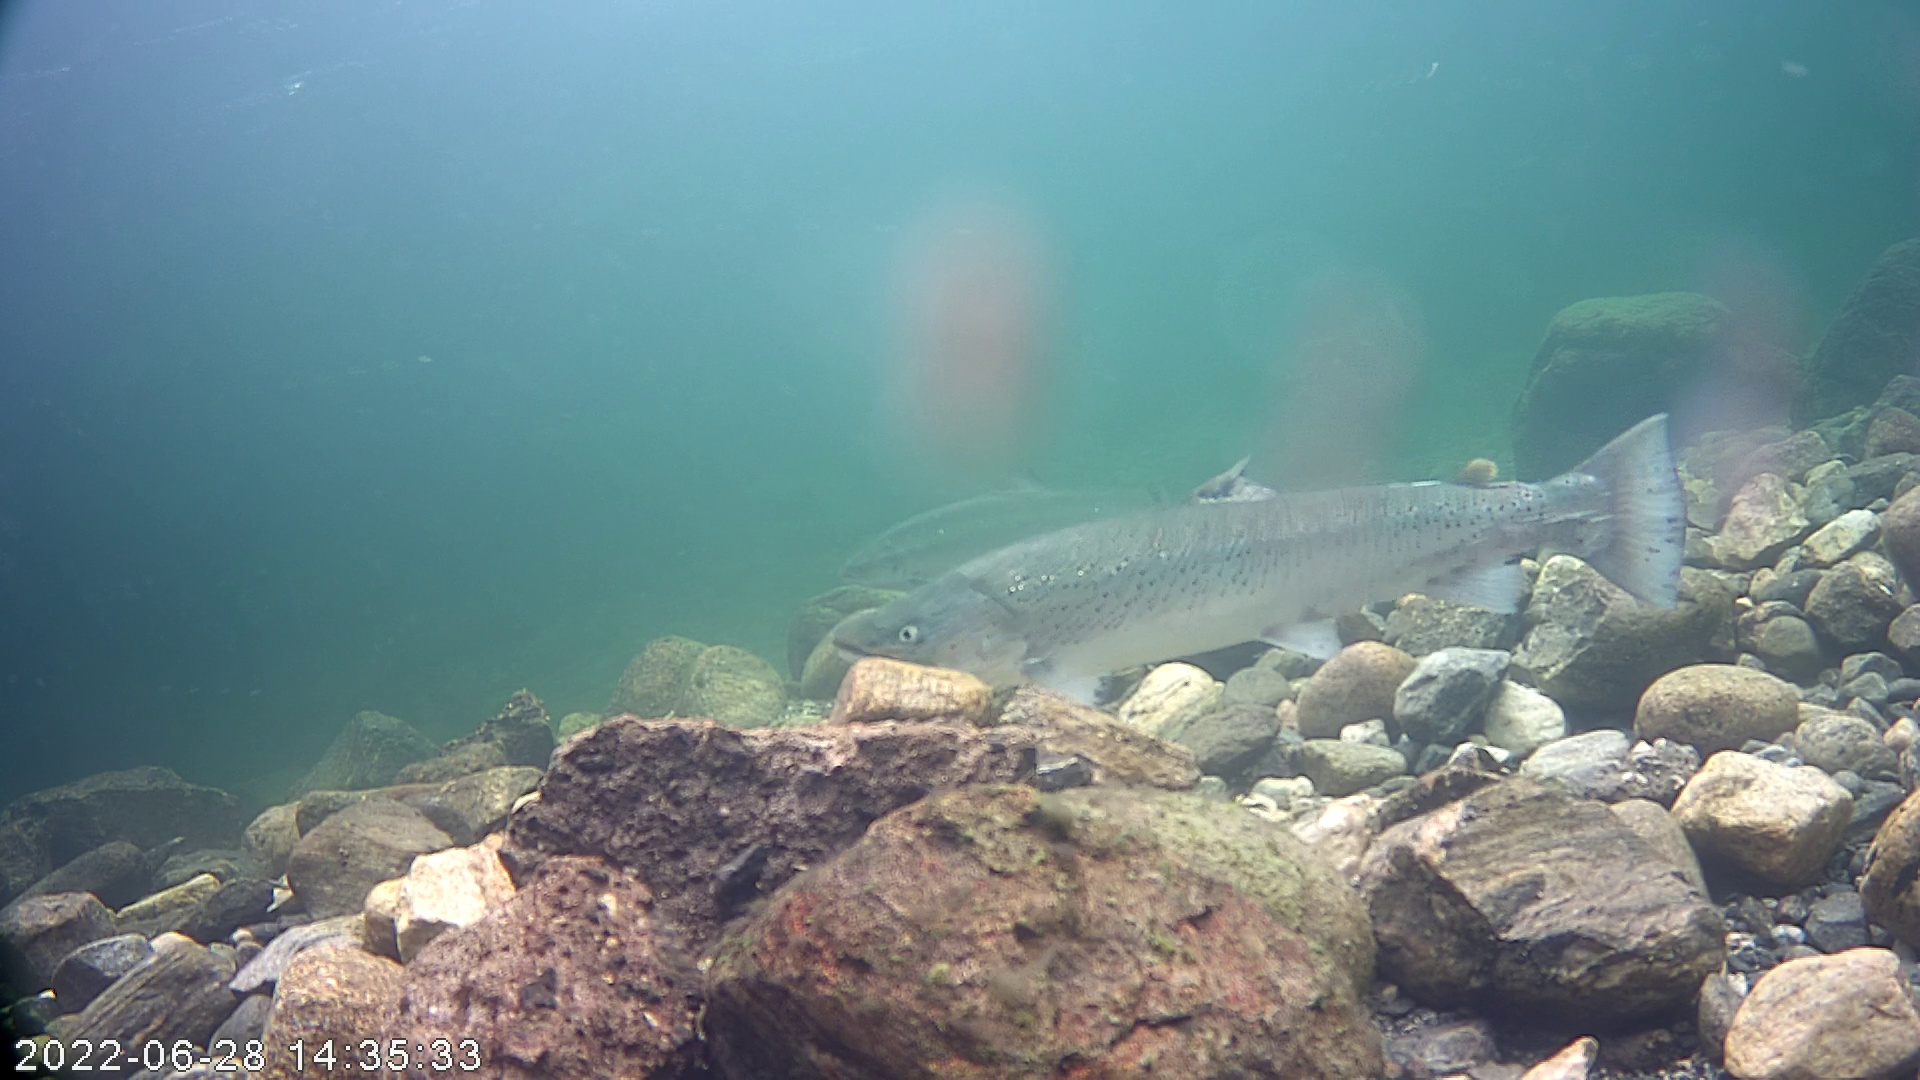salmon: (808, 318, 1725, 707)
